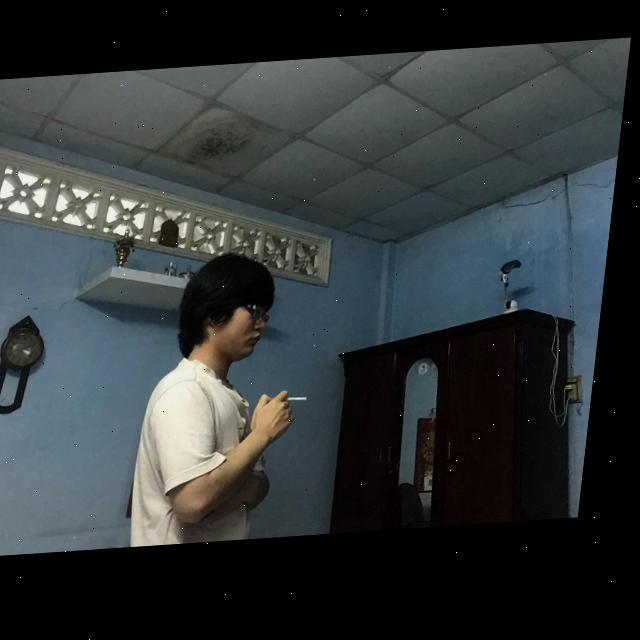cigarette: (295, 401, 317, 407)
